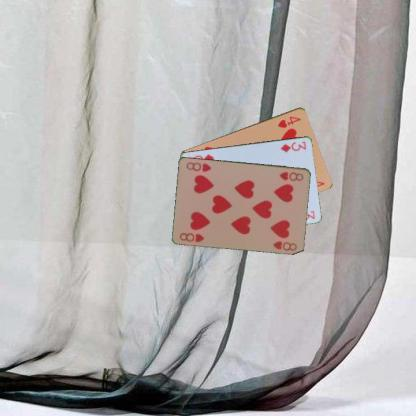3d: (278, 139, 308, 153)
4h: (275, 113, 302, 129)
8h: (177, 230, 206, 243), (277, 169, 305, 182)
